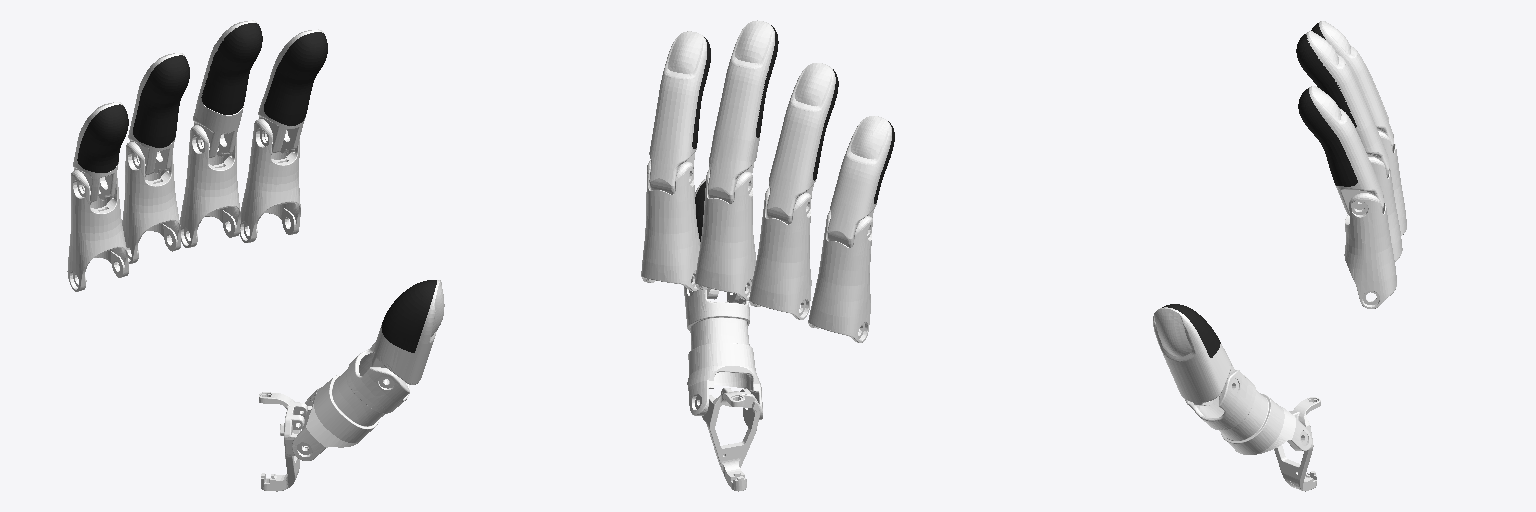
The robot description file, URDF, robot "DH116-V2.0-R":
<?xml version="1.0" encoding="utf-8"?>
<!-- This URDF was automatically created by SolidWorks to URDF Exporter! Originally created by Stephen Brawner (brawner@gmail.com) 
     Commit Version: 1.6.0-4-g7f85cfe  Build Version: 1.6.7995.38578
     For more information, please see http://wiki.ros.org/sw_urdf_exporter -->
<robot
  name="DH116-V2.0-R">
  <!--
    Authoritative coupling description for this hand.

    Independent DOFs: finger11, finger12, finger21, finger31, finger41, finger51
    Passive follower joints:
      finger13 follows finger12: y = -0.0008x2 + 0.929x - 0.8639
      finger22 follows finger21: y = 0.0035x2 + 0.9206x + 0.6344
      finger32 follows finger31: y = 0.0035x2 + 0.9206x + 0.6344
      finger42 follows finger41: y = 0.0035x2 + 0.9206x + 0.6344
      finger52 follows finger51: y = 0.0035x2 + 0.9206x + 0.6344

    Note: URDF mimic supports only linear coupling:
      q_follower = multiplier * q_driver + offset
    The mimic tags below preserve the original DH116-V2.0 geometry, inertial values, joint
    origins, axes, and limits. They encode only the first-order coefficient and the
    constant term from the README formulas. Offsets are converted from degrees to radians.
    Thumb joint ranges and the finger13 mimic: finger11 [0, 1.588], finger12 [0, 1.030], finger13 [0, 1.13];
    the four remaining fingers keep the master range [0, 1.57].
  -->
  <link
    name="base_link">
    <inertial>
      <origin
        xyz="0.000384594983177736 0.00687559548625967 0.062702407337"
        rpy="0 0 0" />
      <mass
        value="0.102648464158255" />
      <inertia
        ixx="5.07013622660663E-05"
        ixy="-1.92736989036255E-07"
        ixz="-2.66150168141194E-06"
        iyy="7.8231102647436E-05"
        iyz="-3.4774755184656E-06"
        izz="4.40244648491789E-05" />
    </inertial>
    <visual>
      <origin
        xyz="0 0 0"
        rpy="0 0 0" />
      <geometry>
        <mesh
          filename="package://DH116-V2.0-R/meshes/base_link.STL" />
      </geometry>
      <material
        name="">
        <color
          rgba="1 1 1 1" />
      </material>
    </visual>
    <collision>
      <origin
        xyz="0 0 0"
        rpy="0 0 0" />
      <geometry>
        <mesh
          filename="package://DH116-V2.0-R/meshes/base_link.STL" />
      </geometry>
    </collision>
  </link>
<link
    name="finger11_link">
    <inertial>
      <origin
        xyz="0.00550004021619312 -0.00655617552095167 -0.000191316160511726"
        rpy="0 0 0" />
      <mass
        value="0.00272983826140588" />
      <inertia
        ixx="3.52738299433481E-07"
        ixy="-1.27969218693403E-08"
        ixz="-1.93093086555405E-08"
        iyy="3.3316263602022E-07"
        iyz="3.14597466376983E-08"
        izz="1.09378484150176E-07" />
    </inertial>
    <visual>
      <origin
        xyz="0 0 0"
        rpy="0 0 0" />
      <geometry>
        <mesh
          filename="package://DH116-V2.0-R/meshes/finger11_link.STL" />
      </geometry>
      <material
        name="">
        <color
          rgba="1 1 1 1" />
      </material>
    </visual>
    <collision>
      <origin
        xyz="0 0 0"
        rpy="0 0 0" />
      <geometry>
        <mesh
          filename="package://DH116-V2.0-R/meshes/finger11_link.STL" />
      </geometry>
    </collision>
  </link>
  <joint
    name="finger11"
    type="revolute">
    <origin
      xyz="0.019056 -0.0094722 0.051267"
      rpy="-0.039961 0.00014312 0" />
    <parent
      link="base_link" />
    <child
      link="finger11_link" />
    <axis
      xyz="0 0 -1" />
    <limit
      lower="0"
      upper="1.588"
      effort="0"
      velocity="0" />
  </joint>
  <link
    name="finger12_link">
    <inertial>
      <origin
        xyz="-1.7086379549211E-06 0.00250534485583995 0.0212009554490771"
        rpy="0 0 0" />
      <mass
        value="0.0080643193016202" />
      <inertia
        ixx="1.66752026443682E-06"
        ixy="-1.44429368976153E-11"
        ixz="1.52526910064258E-11"
        iyy="1.89524549791852E-06"
        iyz="-1.64100446207573E-07"
        izz="8.09911129338027E-07" />
    </inertial>
    <visual>
      <origin
        xyz="0 0 0"
        rpy="0 0 0" />
      <geometry>
        <mesh
          filename="package://DH116-V2.0-R/meshes/finger12_link.STL" />
      </geometry>
      <material
        name="">
        <color
          rgba="1 1 1 1" />
      </material>
    </visual>
    <collision>
      <origin
        xyz="0 0 0"
        rpy="0 0 0" />
      <geometry>
        <mesh
          filename="package://DH116-V2.0-R/meshes/finger12_link.STL" />
      </geometry>
    </collision>
  </link>
  <joint
    name="finger12"
    type="revolute">
    <origin
      xyz="0.0099373 -0.011493 0.0055643"
      rpy="0.99289 -0.2618 0.8727" />
    <parent
      link="finger11_link" />
    <child
      link="finger12_link" />
    <axis
      xyz="-1 0 0" />
    <limit
      lower="0"
      upper="1.030"
      effort="0"
      velocity="0" />
  </joint>
  <link
    name="finger13_link">
    <inertial>
      <origin
        xyz="2.48856358183586E-07 0.0135456541625746 -0.00138746988427199"
        rpy="0 0 0" />
      <mass
        value="0.00965999265031102" />
      <inertia
        ixx="1.0176702894972E-06"
        ixy="4.33828268436077E-11"
        ixz="-3.00147800195969E-11"
        iyy="5.19513068818324E-07"
        iyz="1.71109844996575E-07"
        izz="1.07018007038633E-06" />
    </inertial>
    <visual>
      <origin
        xyz="0 0 0"
        rpy="0 0 0" />
      <geometry>
        <mesh
          filename="package://DH116-V2.0-R/meshes/finger13_link.STL" />
      </geometry>
      <material
        name="">
        <color
          rgba="1 1 1 1" />
      </material>
    </visual>
    <collision>
      <origin
        xyz="0 0 0"
        rpy="0 0 0" />
      <geometry>
        <mesh
          filename="package://DH116-V2.0-R/meshes/finger13_link.STL" />
      </geometry>
    </collision>
  </link>
  <joint
    name="finger13"
    type="revolute">
    <origin
      xyz="0 0.0078952 0.039519"
      rpy="1.3736 0 0" />
    <parent
      link="finger12_link" />
    <child
      link="finger13_link" />
    <axis
      xyz="-1 0 0" />
    <limit
      lower="0"
      upper="1.13"
      effort="0"
      velocity="0" />
    <mimic
      joint="finger12"
      multiplier="0.88178789"
      offset="-0.00697725445" />
  </joint>
  <link
    name="finger14_link">
    <inertial>
      <origin
        xyz="2.85820057448205E-08 0.0219344577214139 -0.0100307358889305"
        rpy="0 0 0" />
      <mass
        value="0.00418622215678032" />
      <inertia
        ixx="1.66201559678115E-07"
        ixy="-7.07167163540706E-13"
        ixz="2.41355839459374E-12"
        iyy="1.36015913548715E-07"
        iyz="1.69926693919176E-08"
        izz="2.12882208881997E-07" />
    </inertial>
    <visual>
      <origin
        xyz="0 0 0"
        rpy="0 0 0" />
      <geometry>
        <mesh
          filename="package://DH116-V2.0-R/meshes/finger14_link.STL" />
      </geometry>
      <material
        name="">
        <color
          rgba="0.2 0.2 0.2 1" />
      </material>
    </visual>
    <collision>
      <origin
        xyz="0 0 0"
        rpy="0 0 0" />
      <geometry>
        <mesh
          filename="package://DH116-V2.0-R/meshes/finger14_link.STL" />
      </geometry>
    </collision>
  </link>
  <joint
    name="finger14"
    type="fixed">
    <origin
      xyz="0 0 0"
      rpy="0 0 0" />
    <parent
      link="finger13_link" />
    <child
      link="finger14_link" />
    <axis
      xyz="0 0 0" />
  </joint>
  <link
    name="finger21_link">
    <inertial>
      <origin
        xyz="-2.31939396755539E-06 0.00199104897025477 0.0176942942642336"
        rpy="0 0 0" />
      <mass
        value="0.00237923288367508" />
      <inertia
        ixx="3.06095021905036E-07"
        ixy="-3.3287161858079E-11"
        ixz="-1.97254315379629E-11"
        iyy="3.35115828643221E-07"
        iyz="9.39968929782069E-09"
        izz="1.35385555921883E-07" />
    </inertial>
    <visual>
      <origin
        xyz="0 0 0"
        rpy="0 0 0" />
      <geometry>
        <mesh
          filename="package://DH116-V2.0-R/meshes/finger21_link.STL" />
      </geometry>
      <material
        name="">
        <color
          rgba="1 1 1 1" />
      </material>
    </visual>
    <collision>
      <origin
        xyz="0 0 0"
        rpy="0 0 0" />
      <geometry>
        <mesh
          filename="package://DH116-V2.0-R/meshes/finger21_link.STL" />
      </geometry>
    </collision>
  </link>
  <joint
    name="finger21"
    type="revolute">
    <origin
      xyz="0.031931 0.011464 0.11666"
      rpy="0.11781 0.052257 0" />
    <parent
      link="base_link" />
    <child
      link="finger21_link" />
    <axis
      xyz="1 3.722E-05 0" />
    <limit
      lower="0"
      upper="1.57"
      effort="0"
      velocity="0" />
  </joint>
  <link
    name="finger22_link">
    <inertial>
      <origin
        xyz="6.06244266413911E-06 0.000193802596547828 0.0163549948899151"
        rpy="0 0 0" />
      <mass
        value="0.00290199009018884" />
      <inertia
        ixx="5.91825321078887E-07"
        ixy="6.43642800788787E-11"
        ixz="-1.21342452967443E-10"
        iyy="5.82301087406945E-07"
        iyz="1.02745391373333E-07"
        izz="8.59585829435756E-08" />
    </inertial>
    <visual>
      <origin
        xyz="0 0 0"
        rpy="0 0 0" />
      <geometry>
        <mesh
          filename="package://DH116-V2.0-R/meshes/finger22_link.STL" />
      </geometry>
      <material
        name="">
        <color
          rgba="1 1 1 1" />
      </material>
    </visual>
    <collision>
      <origin
        xyz="0 0 0"
        rpy="0 0 0" />
      <geometry>
        <mesh
          filename="package://DH116-V2.0-R/meshes/finger22_link.STL" />
      </geometry>
    </collision>
  </link>
  <joint
    name="finger22"
    type="revolute">
    <origin
      xyz="0 0 0.035"
      rpy="0 0 0" />
    <parent
      link="finger21_link" />
    <child
      link="finger22_link" />
    <axis
      xyz="1 3.722E-05 0" />
    <limit
      lower="0.011072"
      upper="1.950714"
      effort="0"
      velocity="0" />
    <mimic
      joint="finger21"
      multiplier="0.9206"
      offset="0.011072" />
  </joint>
  <link
    name="finger23_link">
    <inertial>
      <origin
        xyz="-9.0794472871851E-07 -0.00692151777823585 0.0257115223667692"
        rpy="0 0 0" />
      <mass
        value="0.00365405869163778" />
      <inertia
        ixx="4.00938727580874E-07"
        ixy="1.16230601917764E-11"
        ixz="6.0556640420077E-12"
        iyy="3.87902123070854E-07"
        iyz="1.07487424596211E-07"
        izz="1.02633809135578E-07" />
    </inertial>
    <visual>
      <origin
        xyz="0 0 0"
        rpy="0 0 0" />
      <geometry>
        <mesh
          filename="package://DH116-V2.0-R/meshes/finger23_link.STL" />
      </geometry>
      <material
        name="">
        <color
          rgba="0.2 0.2 0.2 1" />
      </material>
    </visual>
    <collision>
      <origin
        xyz="0 0 0"
        rpy="0 0 0" />
      <geometry>
        <mesh
          filename="package://DH116-V2.0-R/meshes/finger23_link.STL" />
      </geometry>
    </collision>
  </link>
  <joint
    name="finger23"
    type="fixed">
    <origin
      xyz="0 0 0"
      rpy="0 0 0" />
    <parent
      link="finger22_link" />
    <child
      link="finger23_link" />
    <axis
      xyz="0 0 0" />
  </joint>
  <link
    name="finger31_link">
    <inertial>
      <origin
        xyz="-2.57169984000348E-06 0.00199103674986598 0.0176941916901443"
        rpy="0 0 0" />
      <mass
        value="0.00237934251812534" />
      <inertia
        ixx="3.06106546383173E-07"
        ixy="-3.16467877316456E-11"
        ixz="-2.72230393792002E-11"
        iyy="3.35131226054422E-07"
        iyz="9.39619278433277E-09"
        izz="1.35390338391844E-07" />
    </inertial>
    <visual>
      <origin
        xyz="0 0 0"
        rpy="0 0 0" />
      <geometry>
        <mesh
          filename="package://DH116-V2.0-R/meshes/finger31_link.STL" />
      </geometry>
      <material
        name="">
        <color
          rgba="1 1 1 1" />
      </material>
    </visual>
    <collision>
      <origin
        xyz="0 0 0"
        rpy="0 0 0" />
      <geometry>
        <mesh
          filename="package://DH116-V2.0-R/meshes/finger31_link.STL" />
      </geometry>
    </collision>
  </link>
  <joint
    name="finger31"
    type="revolute">
    <origin
      xyz="0.010487 0.01339 0.11949"
      rpy="0.12951 0 0" />
    <parent
      link="base_link" />
    <child
      link="finger31_link" />
    <axis
      xyz="1 3.7272E-05 0" />
    <limit
      lower="0"
      upper="1.57"
      effort="0"
      velocity="0" />
  </joint>
  <link
    name="finger32_link">
    <inertial>
      <origin
        xyz="-0.00447874853704674 -0.0181266554246272 -0.0649010644820765"
        rpy="0 0 0" />
      <mass
        value="0.162452787879437" />
      <inertia
        ixx="0.000523914863226542"
        ixy="5.04551657695002E-05"
        ixz="3.3730103323987E-07"
        iyy="0.000565562752745381"
        iyz="-6.04960703221266E-05"
        izz="0.000203360828654844" />
    </inertial>
    <visual>
      <origin
        xyz="0 0 0"
        rpy="0 0 0" />
      <geometry>
        <mesh
          filename="package://DH116-V2.0-R/meshes/finger32_link.STL" />
      </geometry>
      <material
        name="">
        <color
          rgba="1 1 1 1" />
      </material>
    </visual>
    <collision>
      <origin
        xyz="0 0 0"
        rpy="0 0 0" />
      <geometry>
        <mesh
          filename="package://DH116-V2.0-R/meshes/finger32_link.STL" />
      </geometry>
    </collision>
  </link>
  <joint
    name="finger32"
    type="revolute">
    <origin
      xyz="0 0 0.035"
      rpy="0 0 0" />
    <parent
      link="finger31_link" />
    <child
      link="finger32_link" />
    <axis
      xyz="1 3.7272E-05 0" />
    <limit
      lower="0.011072"
      upper="1.950714"
      effort="0"
      velocity="0" />
    <mimic
      joint="finger31"
      multiplier="0.9206"
      offset="0.011072" />
  </joint>
  <link
    name="finger33_link">
    <inertial>
      <origin
        xyz="-8.76538481265135E-07 -0.00770573024909497 0.0327505947833935"
        rpy="0 0 0" />
      <mass
        value="0.00365402554963479" />
      <inertia
        ixx="4.00938322832869E-07"
        ixy="1.16431212554848E-11"
        ixz="6.05210173267817E-12"
        iyy="3.87914285271573E-07"
        iyz="1.07470495398011E-07"
        izz="1.02620335404759E-07" />
    </inertial>
    <visual>
      <origin
        xyz="0 0 0"
        rpy="0 0 0" />
      <geometry>
        <mesh
          filename="package://DH116-V2.0-R/meshes/finger33_link.STL" />
      </geometry>
      <material
        name="">
        <color
          rgba="0.2 0.2 0.2 1" />
      </material>
    </visual>
    <collision>
      <origin
        xyz="0 0 0"
        rpy="0 0 0" />
      <geometry>
        <mesh
          filename="package://DH116-V2.0-R/meshes/finger33_link.STL" />
      </geometry>
    </collision>
  </link>
  <joint
    name="finger33"
    type="fixed">
    <origin
      xyz="0 0 0"
      rpy="0 0 0" />
    <parent
      link="finger32_link" />
    <child
      link="finger33_link" />
    <axis
      xyz="0 0 0" />
  </joint>
  <link
    name="finger41_link">
    <inertial>
      <origin
        xyz="-3.93506902255682E-06 0.00199086432430838 0.0176937745164442"
        rpy="0 0 0" />
      <mass
        value="0.00237929764942511" />
      <inertia
        ixx="3.06110880192678E-07"
        ixy="-4.85175270844976E-11"
        ixz="-3.97506754624893E-11"
        iyy="3.35136586098437E-07"
        iyz="9.39798742529069E-09"
        izz="1.35389901337327E-07" />
    </inertial>
    <visual>
      <origin
        xyz="0 0 0"
        rpy="0 0 0" />
      <geometry>
        <mesh
          filename="package://DH116-V2.0-R/meshes/finger41_link.STL" />
      </geometry>
      <material
        name="">
        <color
          rgba="1 1 1 1" />
      </material>
    </visual>
    <collision>
      <origin
        xyz="0 0 0"
        rpy="0 0 0" />
      <geometry>
        <mesh
          filename="package://DH116-V2.0-R/meshes/finger41_link.STL" />
      </geometry>
    </collision>
  </link>
  <joint
    name="finger41"
    type="revolute">
    <origin
      xyz="-0.010961 0.014964 0.11844"
      rpy="0.11788 -0.052279 0" />
    <parent
      link="base_link" />
    <child
      link="finger41_link" />
    <axis
      xyz="1 0.00065071 0" />
    <limit
      lower="0"
      upper="1.57"
      effort="0"
      velocity="0" />
  </joint>
  <link
    name="finger42_link">
    <inertial>
      <origin
        xyz="5.87801710019535E-06 0.000193901344861681 0.0163548313036495"
        rpy="0 0 0" />
      <mass
        value="0.00290194424236431" />
      <inertia
        ixx="5.91811523282041E-07"
        ixy="7.15927679110303E-11"
        ixz="-1.86523899856843E-10"
        iyy="5.822895021518E-07"
        iyz="1.02740291428038E-07"
        izz="8.59561948447927E-08" />
    </inertial>
    <visual>
      <origin
        xyz="0 0 0"
        rpy="0 0 0" />
      <geometry>
        <mesh
          filename="package://DH116-V2.0-R/meshes/finger42_link.STL" />
      </geometry>
      <material
        name="">
        <color
          rgba="1 1 1 1" />
      </material>
    </visual>
    <collision>
      <origin
        xyz="0 0 0"
        rpy="0 0 0" />
      <geometry>
        <mesh
          filename="package://DH116-V2.0-R/meshes/finger42_link.STL" />
      </geometry>
    </collision>
  </link>
  <joint
    name="finger42"
    type="revolute">
    <origin
      xyz="0 0 0.0349999999999978"
      rpy="0 0 0" />
    <parent
      link="finger41_link" />
    <child
      link="finger42_link" />
    <axis
      xyz="0.999999788287446 0.000650711198006335 0" />
    <limit
      lower="0.011072"
      upper="1.950714"
      effort="0"
      velocity="0" />
    <mimic
      joint="finger41"
      multiplier="0.9206"
      offset="0.011072" />
  </joint>
  <link
    name="finger43_link">
    <inertial>
      <origin
        xyz="3.33215413406487E-06 -0.00692152287113859 0.0257115586388355"
        rpy="0 0 0" />
      <mass
        value="0.00365404391248439" />
      <inertia
        ixx="4.00937320115789E-07"
        ixy="1.95526622619856E-11"
        ixz="-5.9777583055972E-11"
        iyy="3.87900482567599E-07"
        iyz="1.07487161655879E-07"
        izz="1.0263328877093E-07" />
    </inertial>
    <visual>
      <origin
        xyz="0 0 0"
        rpy="0 0 0" />
      <geometry>
        <mesh
          filename="package://DH116-V2.0-R/meshes/finger43_link.STL" />
      </geometry>
      <material
        name="">
        <color
          rgba="0.2 0.2 0.2 1" />
      </material>
    </visual>
    <collision>
      <origin
        xyz="0 0 0"
        rpy="0 0 0" />
      <geometry>
        <mesh
          filename="package://DH116-V2.0-R/meshes/finger43_link.STL" />
      </geometry>
    </collision>
  </link>
  <joint
    name="finger43"
    type="fixed">
    <origin
      xyz="0 0 0"
      rpy="0 0 0" />
    <parent
      link="finger42_link" />
    <child
      link="finger43_link" />
    <axis
      xyz="0 0 0" />
  </joint>
  <link
    name="finger51_link">
    <inertial>
      <origin
        xyz="-2.6499053691724E-06 0.00199087180780914 0.0176937652697311"
        rpy="0 0 0" />
      <mass
        value="0.00237929747953735" />
      <inertia
        ixx="3.06111890037292E-07"
        ixy="-2.95660249845451E-11"
        ixz="-3.44193932707122E-11"
        iyy="3.35138052209343E-07"
        iyz="9.39809802777093E-09"
        izz="1.35389829832343E-07" />
    </inertial>
    <visual>
      <origin
        xyz="0 0 0"
        rpy="0 0 0" />
      <geometry>
        <mesh
          filename="package://DH116-V2.0-R/meshes/finger51_link.STL" />
      </geometry>
      <material
        name="">
        <color
          rgba="1 1 1 1" />
      </material>
    </visual>
    <collision>
      <origin
        xyz="0 0 0"
        rpy="0 0 0" />
      <geometry>
        <mesh
          filename="package://DH116-V2.0-R/meshes/finger51_link.STL" />
      </geometry>
    </collision>
  </link>
  <joint
    name="finger51"
    type="revolute">
    <origin
      xyz="-0.032132 0.012794 0.11444"
      rpy="0.11711 -0.07854 9.2225E-05" />
    <parent
      link="base_link" />
    <child
      link="finger51_link" />
    <axis
      xyz="1 0 0" />
    <limit
      lower="0"
      upper="1.57"
      effort="0"
      velocity="0" />
  </joint>
  <link
    name="finger52_link">
    <inertial>
      <origin
        xyz="-2.3843774642901E-06 0.00110184316633494 0.0123390880478485"
        rpy="0 0 0" />
      <mass
        value="0.00638461833528179" />
      <inertia
        ixx="8.49153457410536E-07"
        ixy="-1.18629058113402E-10"
        ixz="4.40902629460727E-10"
        iyy="8.38630067063461E-07"
        iyz="1.48000702141386E-07"
        izz="1.69709239768944E-07" />
    </inertial>
    <visual>
      <origin
        xyz="0 0 0"
        rpy="0 0 0" />
      <geometry>
        <mesh
          filename="package://DH116-V2.0-R/meshes/finger52_link.STL" />
      </geometry>
      <material
        name="">
        <color
          rgba="1 1 1 1" />
      </material>
    </visual>
    <collision>
      <origin
        xyz="0 0 0"
        rpy="0 0 0" />
      <geometry>
        <mesh
          filename="package://DH116-V2.0-R/meshes/finger52_link.STL" />
      </geometry>
    </collision>
  </link>
  <joint
    name="finger52"
    type="revolute">
    <origin
      xyz="0 0 0.0349999999999978"
      rpy="0 0 -9.257460952499E-05" />
    <parent
      link="finger51_link" />
    <child
      link="finger52_link" />
    <axis
      xyz="0.999999995714971 9.25746093928242E-05 0" />
    <limit
      lower="0.011072"
      upper="1.950714"
      effort="0"
      velocity="0" />
    <mimic
      joint="finger51"
      multiplier="0.9206"
      offset="0.011072" />
  </joint>
  <link
    name="finger53_link">
    <inertial>
      <origin
        xyz="5.22583427593759E-07 -0.00593758897081557 0.0211236554240134"
        rpy="0 0 0" />
      <mass
        value="0.00249664955510129" />
      <inertia
        ixx="1.41888685022144E-07"
        ixy="4.783847373373E-13"
        ixz="-3.78082782906442E-12"
        iyy="1.42159874035205E-07"
        iyz="4.09235660156428E-08"
        izz="6.04658821763626E-08" />
    </inertial>
    <visual>
      <origin
        xyz="0 0 0"
        rpy="0 0 0" />
      <geometry>
        <mesh
          filename="package://DH116-V2.0-R/meshes/finger53_link.STL" />
      </geometry>
      <material
        name="">
        <color
          rgba="0.2 0.2 0.2 1" />
      </material>
    </visual>
    <collision>
      <origin
        xyz="0 0 0"
        rpy="0 0 0" />
      <geometry>
        <mesh
          filename="package://DH116-V2.0-R/meshes/finger53_link.STL" />
      </geometry>
    </collision>
  </link>
  <joint
    name="finger53"
    type="fixed">
    <origin
      xyz="0 0 0"
      rpy="0 0 0" />
    <parent
      link="finger52_link" />
    <child
      link="finger53_link" />
    <axis
      xyz="0 0 0" />
  </joint>
  </robot>

--- What the picture shows (computed from the rendered views, not written in the file) ---
Views: 3 orthographic renders of the robot side by side, from view 1: azimuth 30°, elevation 25°; view 2: azimuth 150°, elevation 25°; view 3: azimuth 270°, elevation 25°.
Robot: DH116-V2.0-R — 17 links, 16 joints (11 revolute, 5 fixed); root link base_link; default pose: joints at zero except 4 at the middle of their limits (finger13 = -0.007, finger22 = 0.0111, finger32 = 0.0111, finger42 = 0.0111, finger52 = 0.0111).
Links seen in each view (by area): view 1: finger12_link, finger21_link, finger31_link, finger51_link, finger41_link, finger23_link, finger33_link, finger43_link, finger13_link, finger53_link, finger14_link, finger11_link (+4 smaller); view 2: finger32_link, finger12_link, finger42_link, finger22_link, finger41_link, finger51_link, finger31_link, finger21_link, finger52_link, finger11_link; view 3: finger12_link, finger13_link, finger21_link, finger22_link, finger32_link, finger23_link, finger42_link, finger11_link, finger33_link, finger31_link, finger41_link, finger14_link.
Link boxes in pixels (left/top/right/bottom): finger12_link: left=292, top=342, right=409, bottom=460; finger21_link: left=240, top=119, right=300, bottom=242; finger31_link: left=180, top=125, right=240, bottom=247; finger51_link: left=67, top=170, right=128, bottom=291; finger41_link: left=122, top=142, right=180, bottom=263; finger23_link: left=264, top=32, right=327, bottom=125; finger33_link: left=201, top=23, right=262, bottom=114; finger43_link: left=133, top=55, right=189, bottom=147; finger13_link: left=372, top=280, right=444, bottom=384; finger53_link: left=77, top=104, right=128, bottom=172; finger14_link: left=381, top=280, right=436, bottom=352; finger11_link: left=259, top=392, right=311, bottom=491; finger32_link: left=708, top=20, right=774, bottom=203; finger12_link: left=684, top=275, right=762, bottom=419; finger42_link: left=767, top=63, right=835, bottom=224; finger22_link: left=649, top=31, right=706, bottom=194; finger41_link: left=749, top=187, right=811, bottom=319; finger51_link: left=808, top=210, right=872, bottom=342; finger31_link: left=695, top=168, right=756, bottom=300; finger21_link: left=641, top=160, right=699, bottom=290; finger52_link: left=827, top=116, right=891, bottom=247; finger11_link: left=702, top=388, right=760, bottom=491; finger12_link: left=1185, top=370, right=1311, bottom=454; finger13_link: left=1153, top=307, right=1234, bottom=405; finger21_link: left=1344, top=193, right=1396, bottom=308; finger22_link: left=1309, top=86, right=1383, bottom=215; finger32_link: left=1306, top=31, right=1388, bottom=176; finger23_link: left=1298, top=88, right=1357, bottom=186; finger42_link: left=1319, top=21, right=1393, bottom=149; finger11_link: left=1274, top=397, right=1320, bottom=491; finger33_link: left=1296, top=34, right=1356, bottom=127; finger31_link: left=1368, top=157, right=1402, bottom=261; finger41_link: left=1378, top=131, right=1406, bottom=235; finger14_link: left=1162, top=304, right=1220, bottom=357.
Bounding box of the posed robot: 0.1041 × 0.0893 × 0.1713 m (x, y, z).
16 mesh visuals loaded from 17 distinct referenced files (16 binary STL); not drawn: 1 (reference not matched to a file when rendering).
